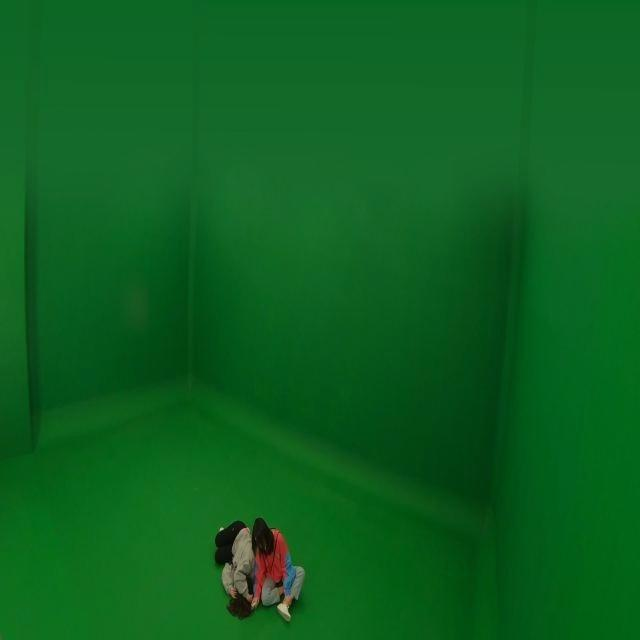fight: (211, 514, 307, 623)
